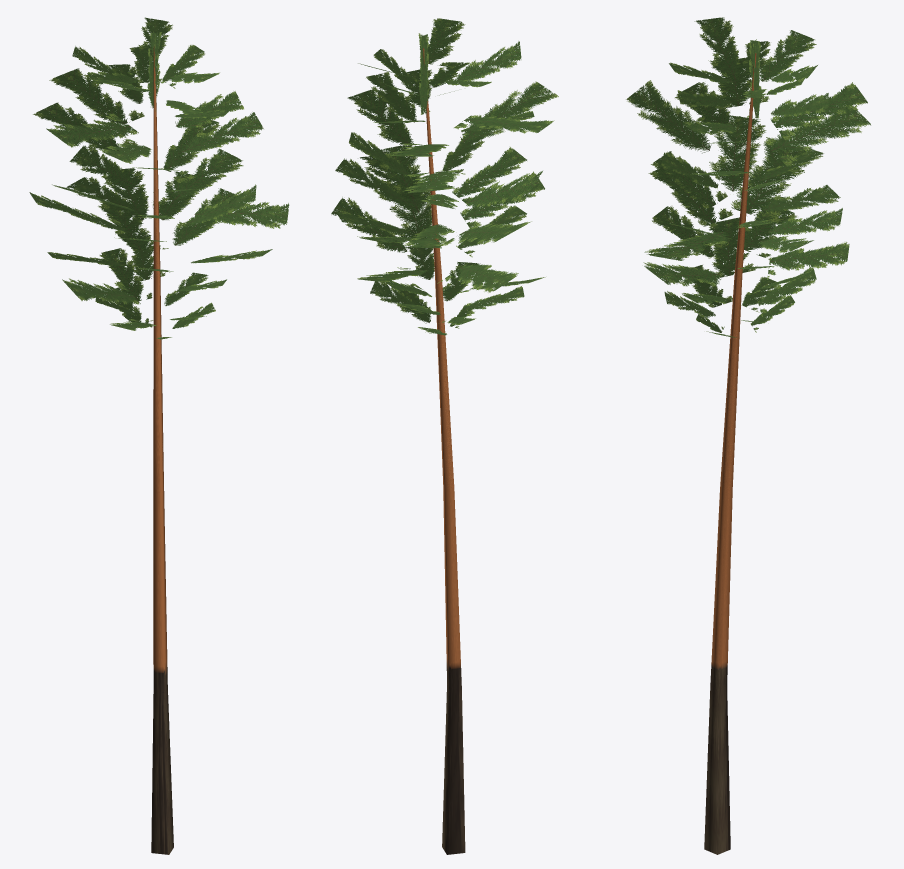
File: mid.glb
3 views of the same model, side by side, from view 1: azimuth 30°, elevation 25°; view 2: azimuth 150°, elevation 25°; view 3: azimuth 270°, elevation 25° (orthographic). The views are drawn at different scales.
Visible parts, largest first — view 1: pine_02; view 2: pine_02; view 3: pine_02.
Boxes of the visible parts, left/top/right/bottom form: pine_02: left=29, top=17, right=289, bottom=854; pine_02: left=331, top=18, right=558, bottom=854; pine_02: left=626, top=17, right=870, bottom=854.
Size of the model in its own units: 6.25 by 19.99 by 6.38.
Materials: 2 (2 with a texture image).
